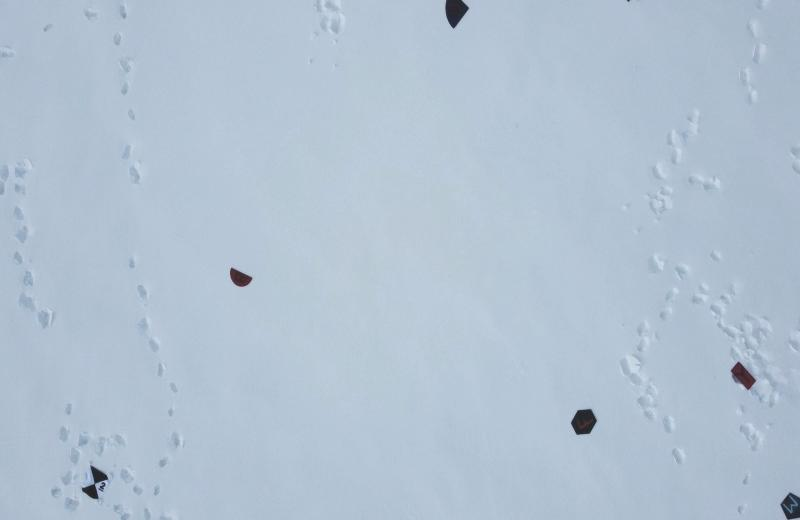Hexagon: (571, 404, 601, 440)
Pentagon: (777, 490, 800, 520)
Quarter Circle: (440, 0, 472, 32)
Rectangle: (728, 356, 758, 394)
Semi Circle: (225, 266, 254, 291)
